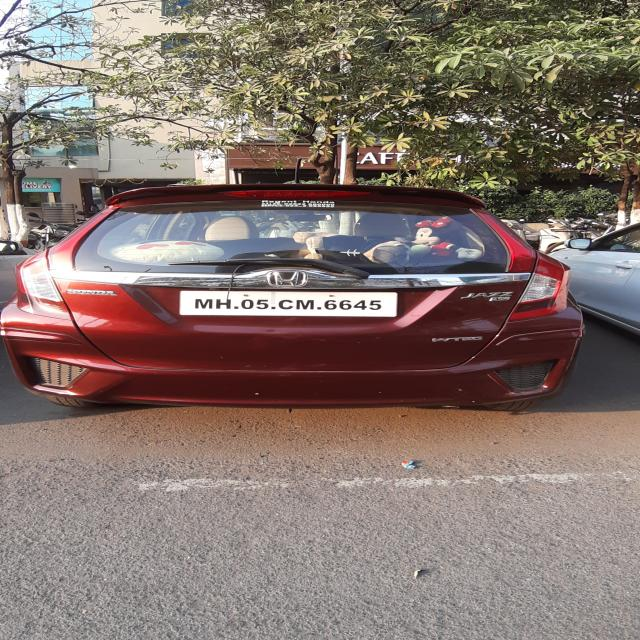Number-Plate: (180, 290, 395, 314)
